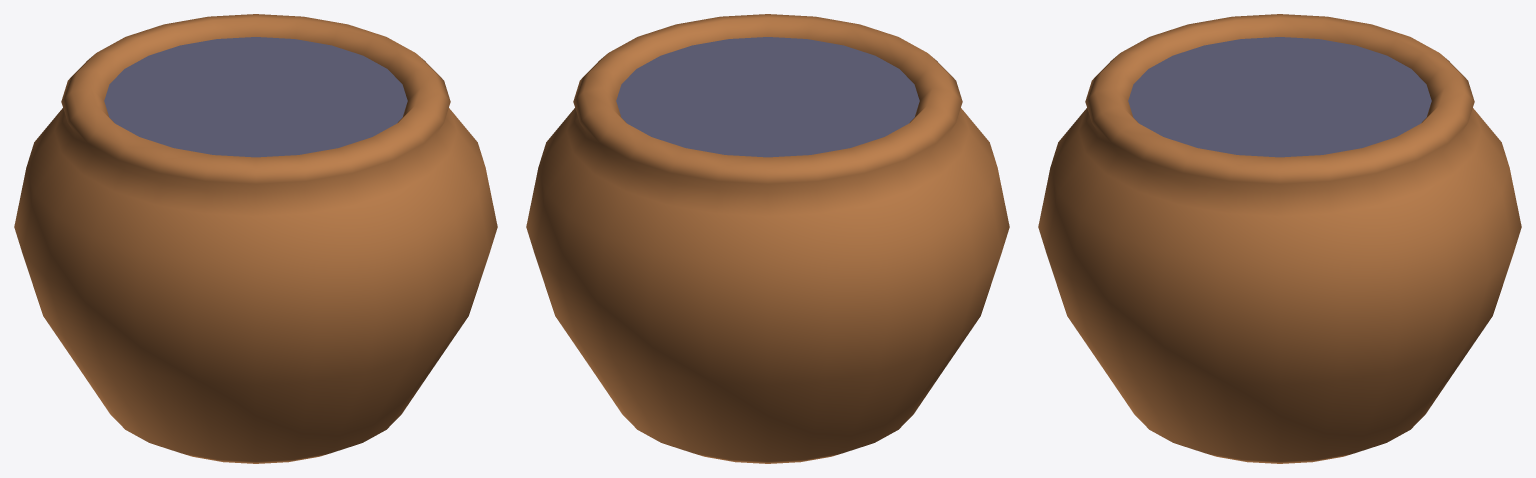
The model's file is pottery-wheel.glb.
The picture shows the model from 3 angles, left to right: view 1: azimuth 30°, elevation 25°; view 2: azimuth 150°, elevation 25°; view 3: azimuth 270°, elevation 25°; orthographic projection.
Parts seen in each view (by area): view 1: Clay_Pot, Clay_Pot_Water; view 2: Clay_Pot, Clay_Pot_Water; view 3: Clay_Pot, Clay_Pot_Water.
Part boxes in pixels (left/top/right/bottom): Clay_Pot: left=14, top=14, right=497, bottom=463; Clay_Pot_Water: left=104, top=37, right=407, bottom=157; Clay_Pot: left=526, top=14, right=1009, bottom=463; Clay_Pot_Water: left=616, top=37, right=919, bottom=157; Clay_Pot: left=1038, top=14, right=1521, bottom=463; Clay_Pot_Water: left=1128, top=37, right=1431, bottom=157.
Size of the model in its own units: 0.9531 by 0.7017 by 0.9531.
Materials: 1 (1 with a texture image).
